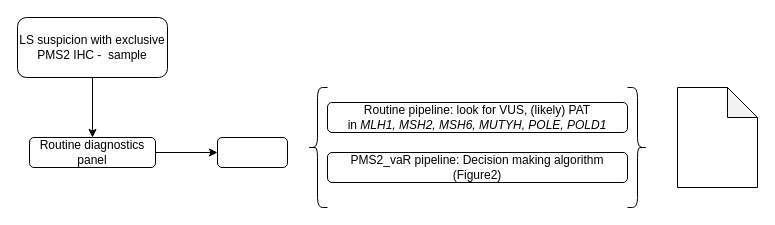
Image size: 775x225. Some labels were removed from this diagram. Here are the shapes that lost their labels. From the top down, the centre of each, then its label:
point (252, 152): Analysis
point (717, 137): variant report
